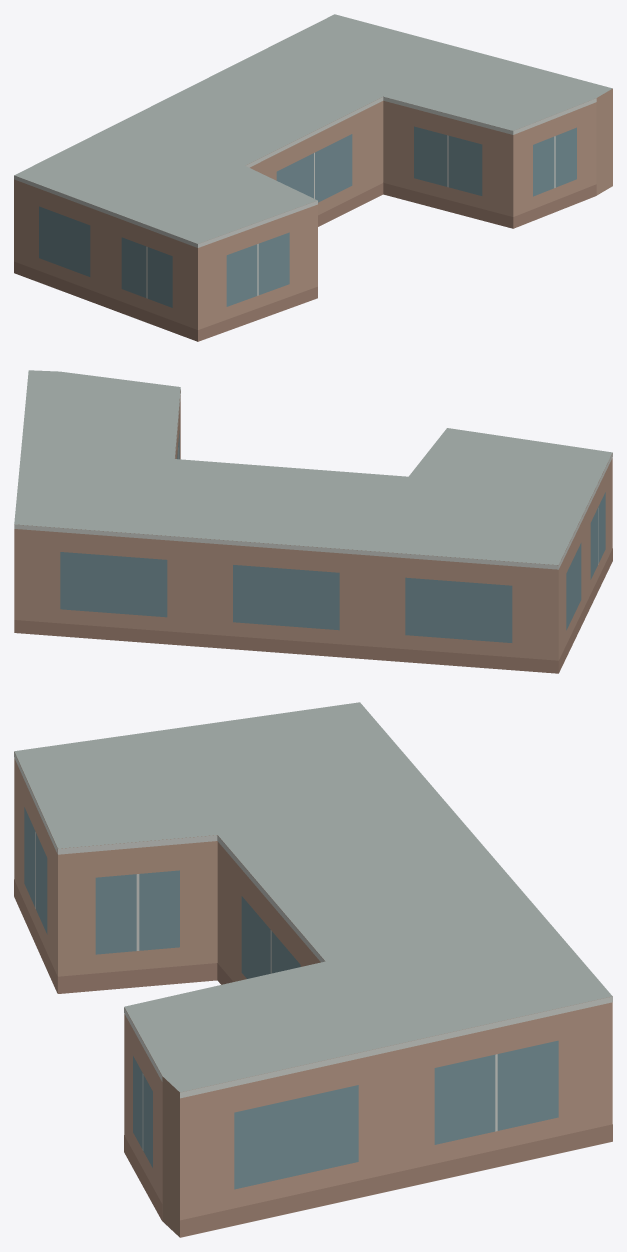
File: survey-upis-32637360.glb
The picture shows the model from 3 angles, top to bottom: view 1: azimuth 30°, elevation 25°; view 2: azimuth 150°, elevation 25°; view 3: azimuth 270°, elevation 25°; orthographic projection. The views are drawn at different scales.
Visible parts, largest first — view 1: survey-upis-32637360.tmp; view 2: survey-upis-32637360.tmp; view 3: survey-upis-32637360.tmp.
Part boxes in pixels (x1,y1,x2,y2): survey-upis-32637360.tmp: [14, 14, 612, 341]; survey-upis-32637360.tmp: [14, 370, 612, 673]; survey-upis-32637360.tmp: [14, 702, 612, 1237].
Bounding box in the file's own units: 17.59 × 3.05 × 11.4.
